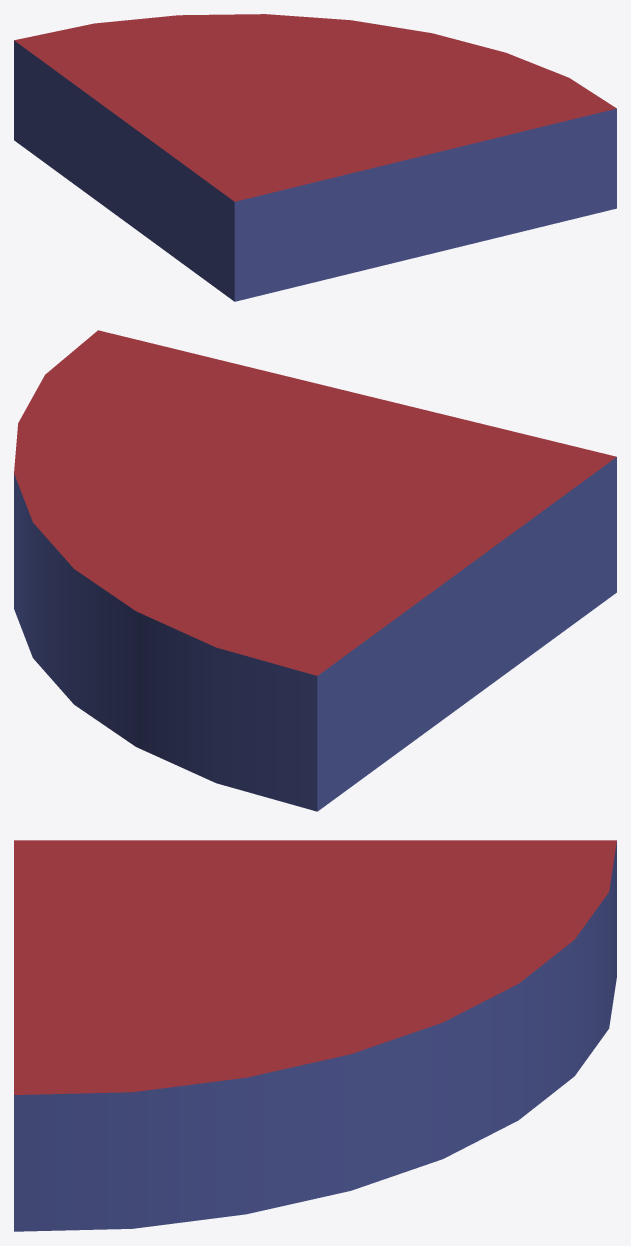
File: CoL_PlatformRounded_3x3_01x1.fbx
3 views of the same model, one above another, from view 1: azimuth 30°, elevation 25°; view 2: azimuth 150°, elevation 25°; view 3: azimuth 270°, elevation 25° (orthographic). The views are drawn at different scales.
Parts seen in each view (by area): view 1: CoL_PlatformRounded_3x3_01x1; view 2: CoL_PlatformRounded_3x3_01x1; view 3: CoL_PlatformRounded_3x3_01x1.
Part boxes in pixels (box(x1,y1,x2,y2)): CoL_PlatformRounded_3x3_01x1: box(14, 14, 616, 301); CoL_PlatformRounded_3x3_01x1: box(14, 330, 616, 811); CoL_PlatformRounded_3x3_01x1: box(14, 840, 616, 1231).
Bounding box in the file's own units: 400 × 100 × 400.
